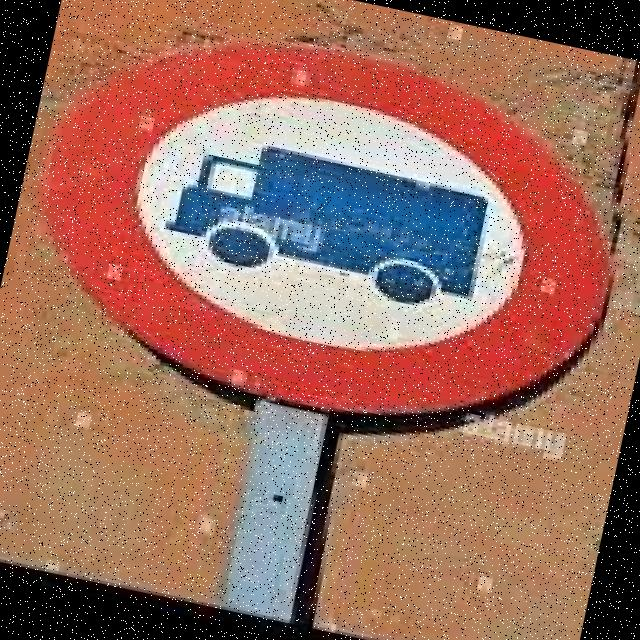do_not_enter: (0, 0, 639, 471)
